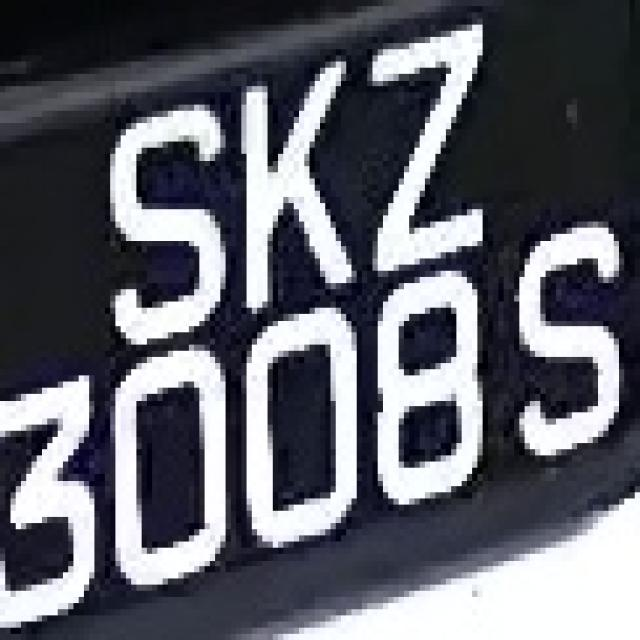0: (225, 277, 378, 560), (110, 338, 247, 597)
3: (0, 4, 1, 6)
8: (352, 246, 504, 511)
K: (215, 61, 352, 314)
S: (100, 73, 230, 344), (514, 178, 630, 480)
Z: (352, 12, 520, 290)
